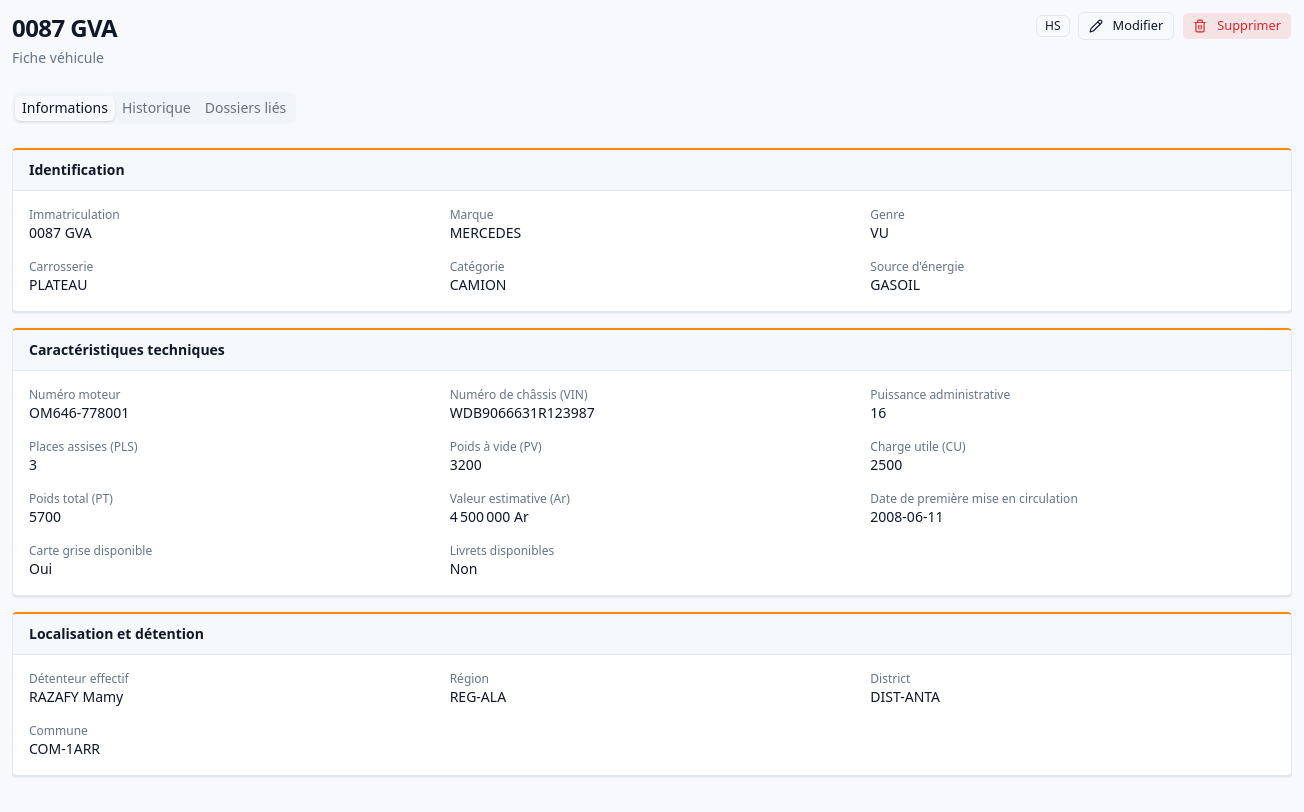
Test: VehiculeDetailPage — onglet Historique › affiche la frise des mouvements du véhicule (le plus récent en premier)
What coordinates should you click on to do the following:
click the tab with test id "vehicule-tab-historique"
I would click on:
 (156, 108)
Its box is [115,96,198,120].
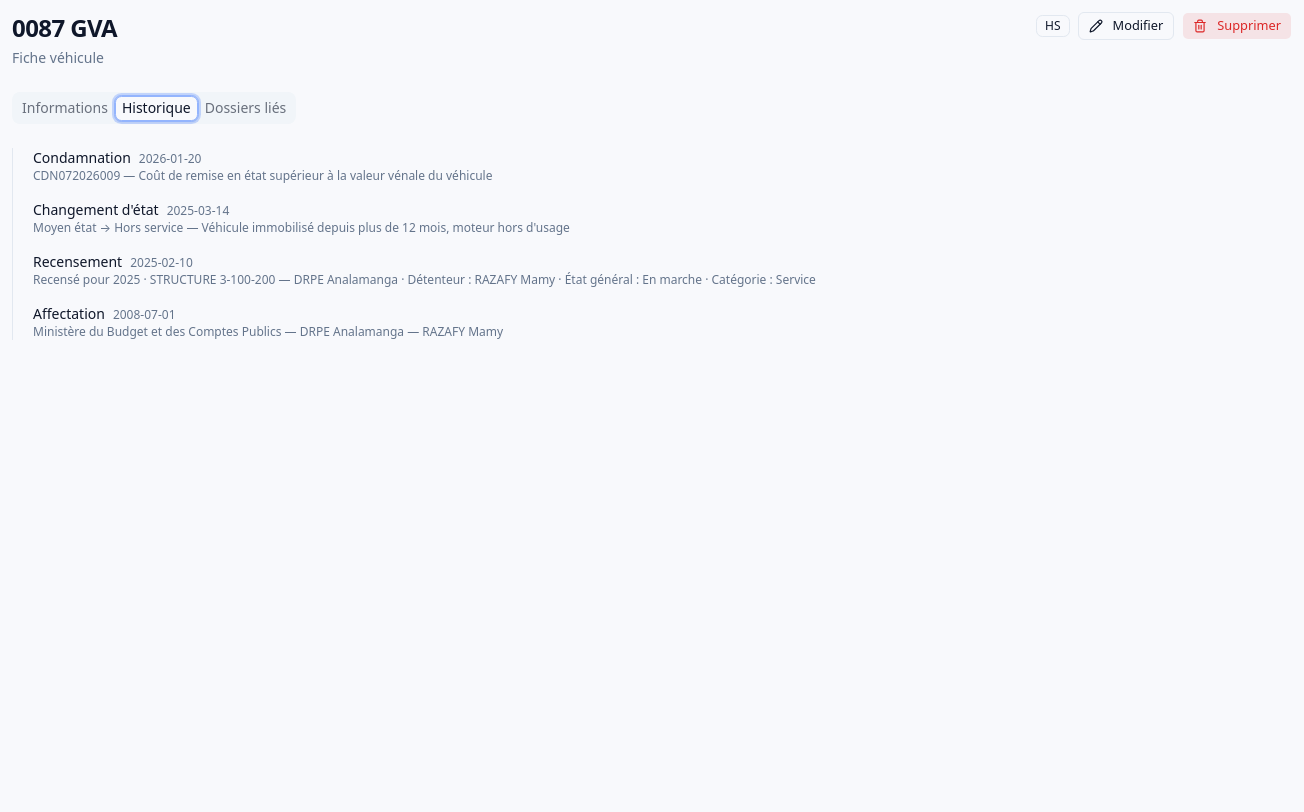
expect the panel with test id "vehicule-historique-panel" is shown: met, box [12,132,1292,340]
expect the list item with test id "vehicule-mouvement-mvt-0009" is shown: met, box [33,304,503,340]
expect the list item with test id "vehicule-mouvement-mvt-0012" is shown: met, box [33,252,816,288]
